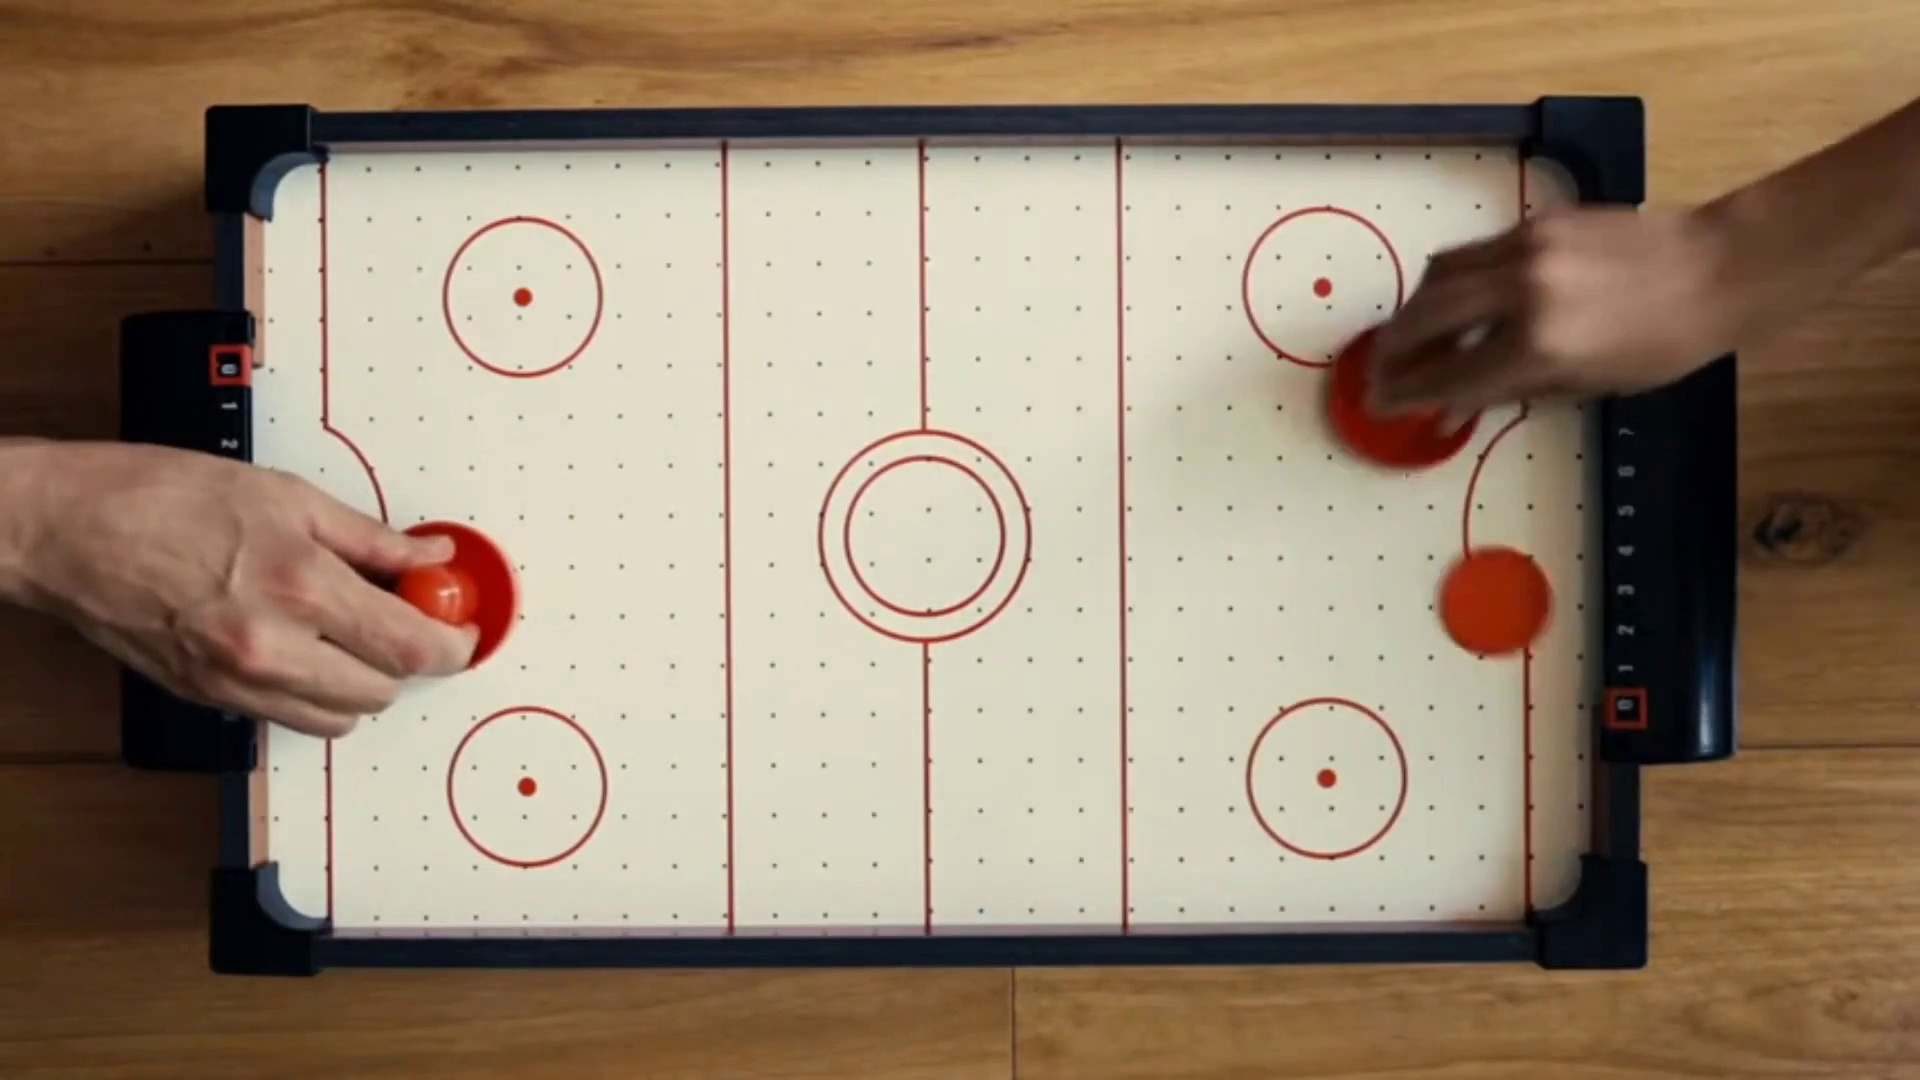player1: (367, 523, 517, 676)
player2: (1334, 317, 1475, 470)
puck: (1431, 544, 1557, 655)
table: (264, 152, 1575, 917)
